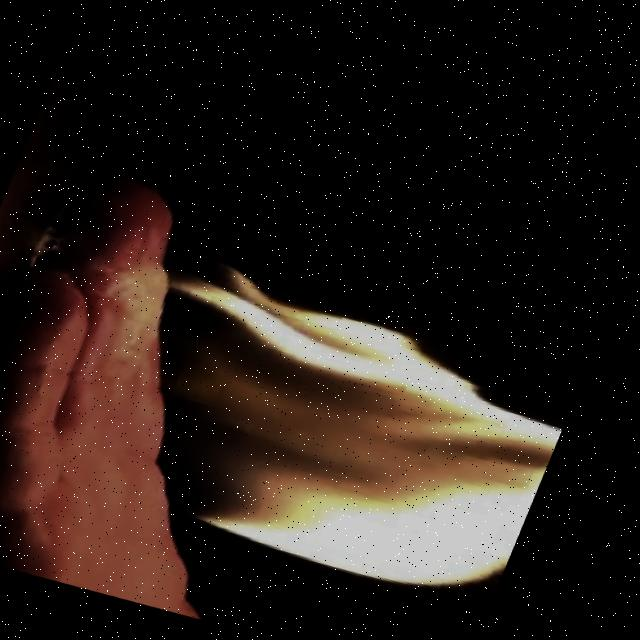Fire: (36, 212, 613, 636)
